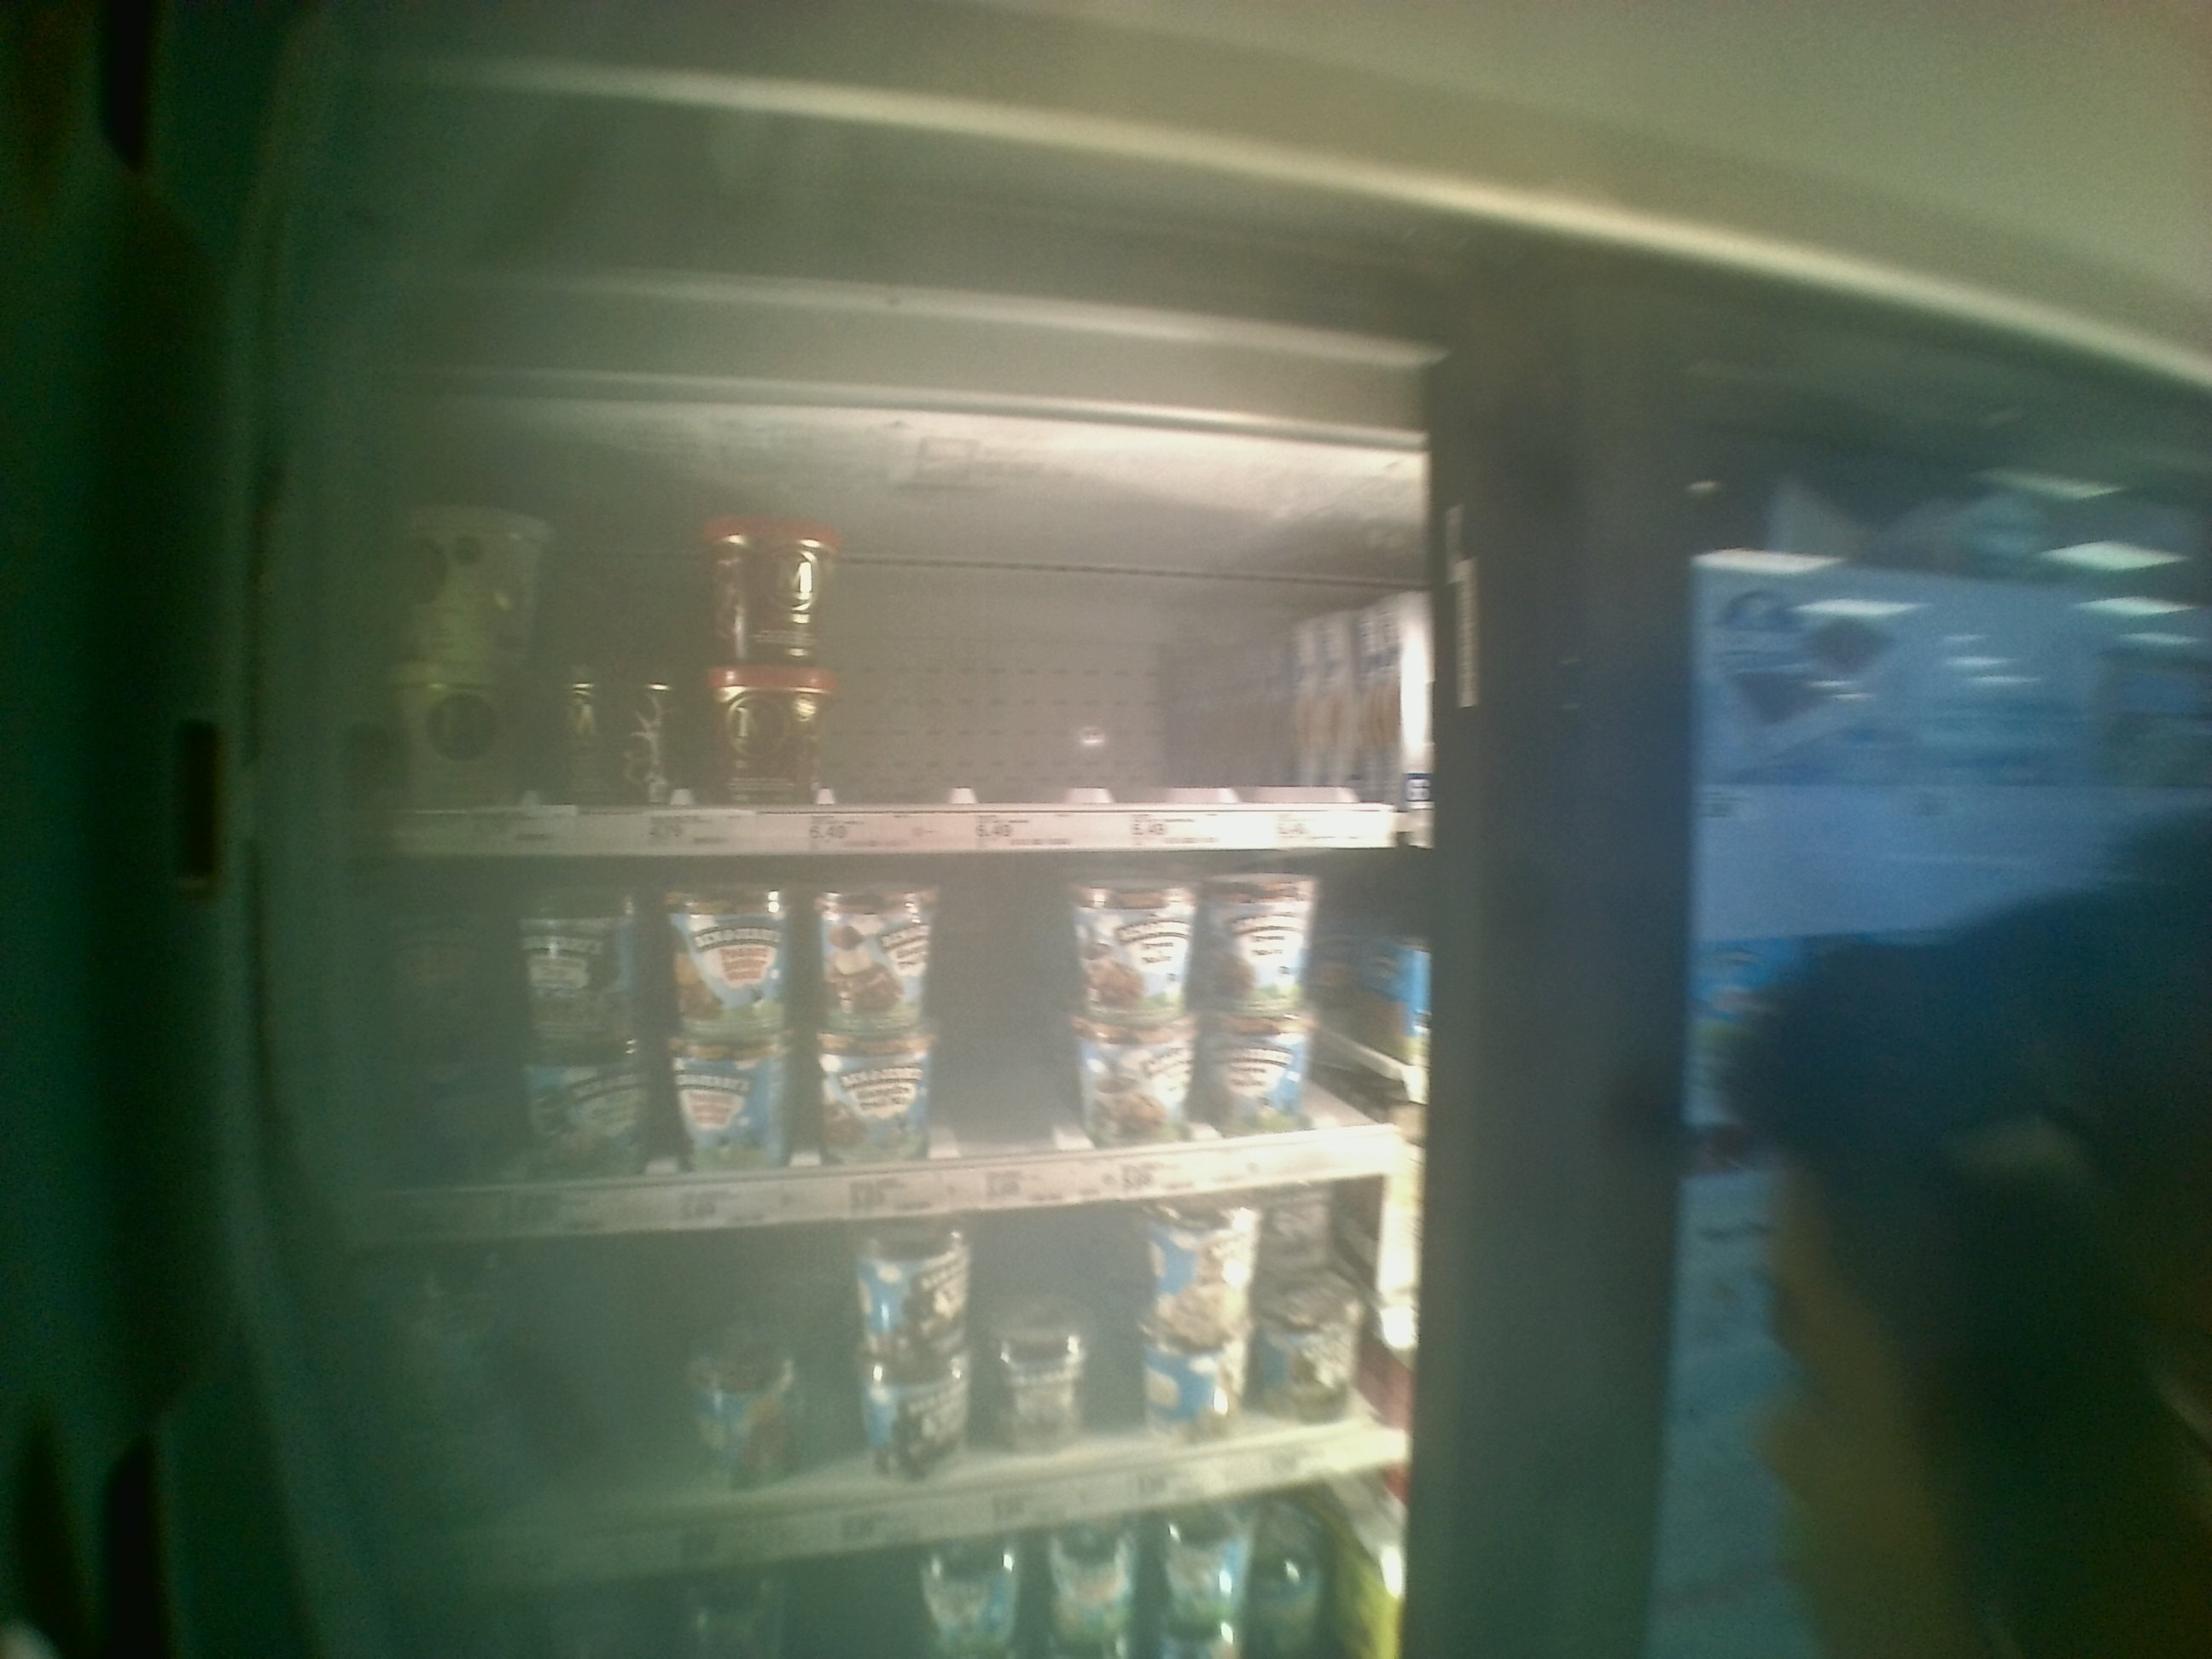shelf: (340, 385, 1430, 849), (331, 857, 1440, 1251)
